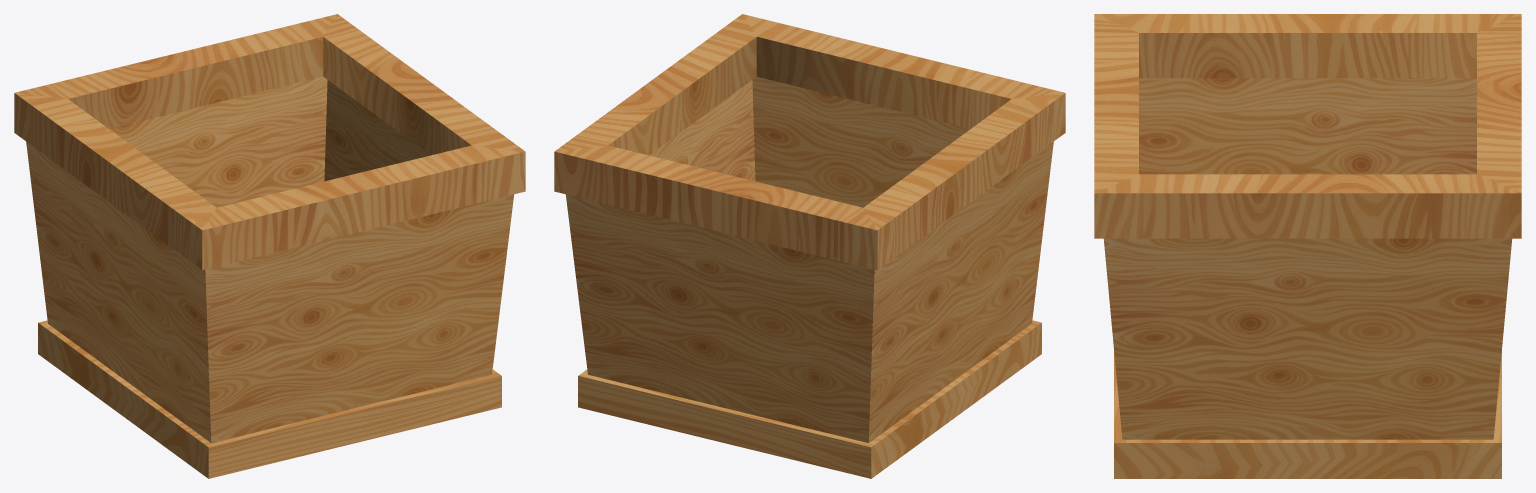
Rendered from Candy_Basket_Drop.fbx.
3 renders of one model, left to right at view 1: azimuth 30°, elevation 25°; view 2: azimuth 150°, elevation 25°; view 3: azimuth 270°, elevation 25°, orthographic. The views are drawn at different scales.
Parts seen in each view (by area): view 1: Candy_Basket_Drop.003, Candy_Basket_Drop.002, Candy_Basket_Drop.001, Candy_Basket_Drop.000, Candy_Basket_Drop.004; view 2: Candy_Basket_Drop.001, Candy_Basket_Drop.002, Candy_Basket_Drop.003, Candy_Basket_Drop.000, Candy_Basket_Drop.004; view 3: Candy_Basket_Drop.004, Candy_Basket_Drop.002, Candy_Basket_Drop.000, Candy_Basket_Drop.001, Candy_Basket_Drop.003.
Part boxes in pixels (x1=…): Candy_Basket_Drop.003: x1=202, y1=145, x2=525, y2=442; Candy_Basket_Drop.002: x1=14, y1=93, x2=216, y2=442; Candy_Basket_Drop.001: x1=15, y1=14, x2=337, y2=207; Candy_Basket_Drop.000: x1=38, y1=320, x2=501, y2=478; Candy_Basket_Drop.004: x1=323, y1=14, x2=524, y2=181; Candy_Basket_Drop.001: x1=554, y1=145, x2=877, y2=442; Candy_Basket_Drop.002: x1=863, y1=93, x2=1065, y2=442; Candy_Basket_Drop.003: x1=742, y1=14, x2=1064, y2=207; Candy_Basket_Drop.000: x1=578, y1=320, x2=1041, y2=478; Candy_Basket_Drop.004: x1=555, y1=14, x2=756, y2=181; Candy_Basket_Drop.004: x1=1094, y1=174, x2=1521, y2=439; Candy_Basket_Drop.002: x1=1095, y1=14, x2=1520, y2=174; Candy_Basket_Drop.000: x1=1114, y1=351, x2=1501, y2=478; Candy_Basket_Drop.001: x1=1477, y1=14, x2=1521, y2=192; Candy_Basket_Drop.003: x1=1094, y1=14, x2=1138, y2=192.
Bounding box in the file's own units: 55.73 × 42.61 × 56.13.
